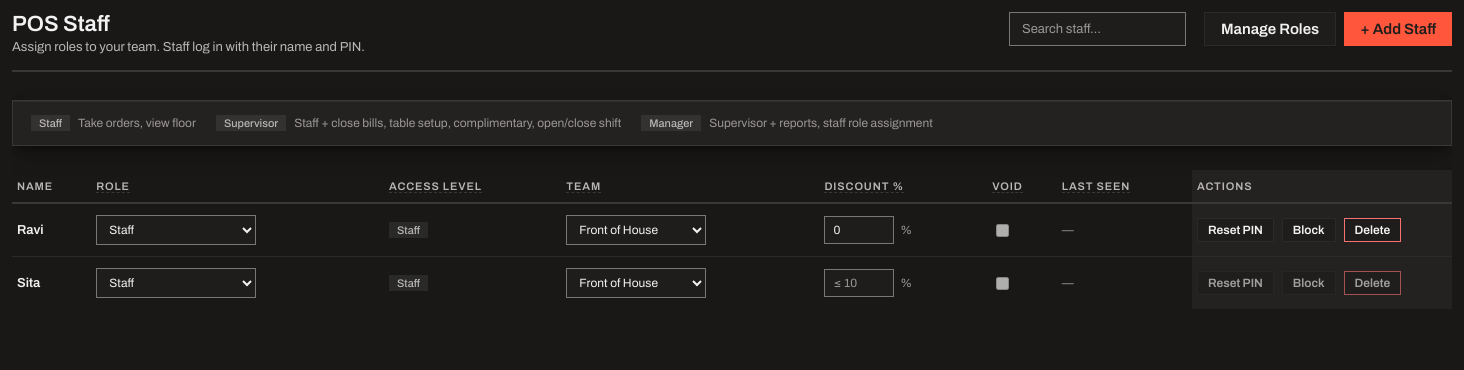
Scenario: a server refusal goes under its row, and the next action clears it
expect the text "Ravi" is shown: met, box [17, 223, 44, 237]
Step 1. Select "Kitchen" in the dropdown named "POS team for Ravi" → point(636, 230), box [566, 215, 706, 245]
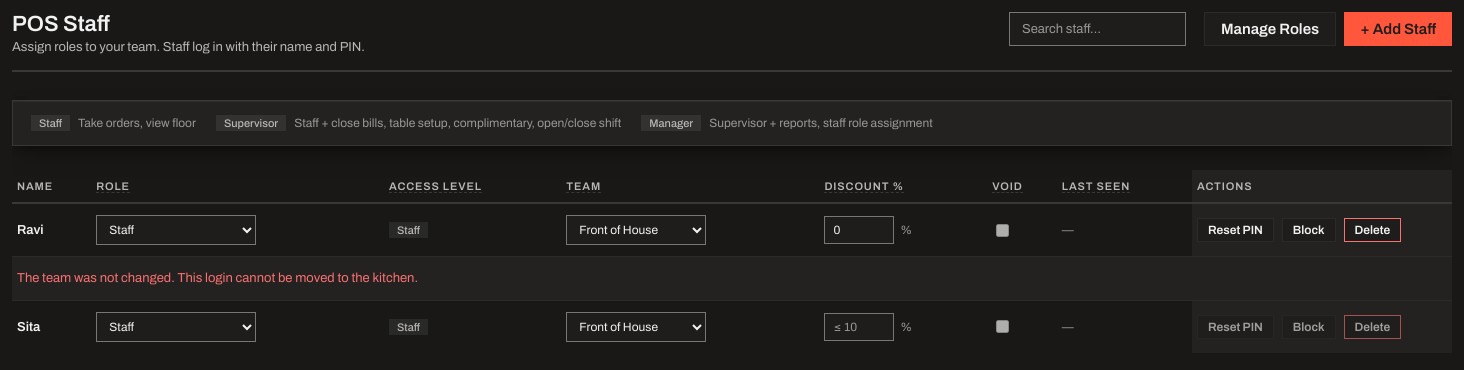
expect the message reads "The team was not changed. This login cannot be moved to the kitchen.": met, box [17, 271, 418, 285]
Step 2. Select "Bar" in the dropdown named "POS team for Sita" → point(636, 326), box [566, 312, 706, 342]
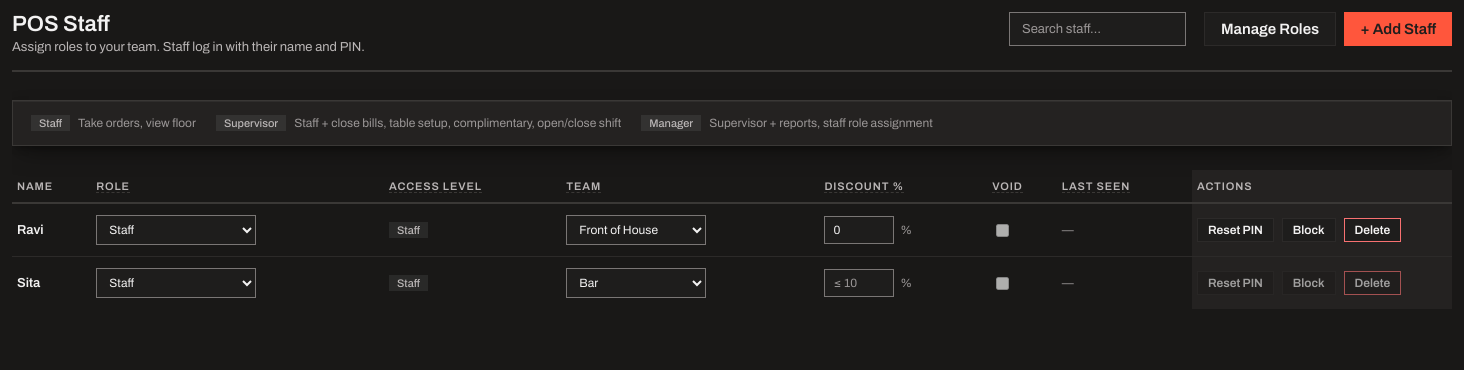
expect the message "The team was not changed. This login cannot be moved to the kitchen." is gone: met
